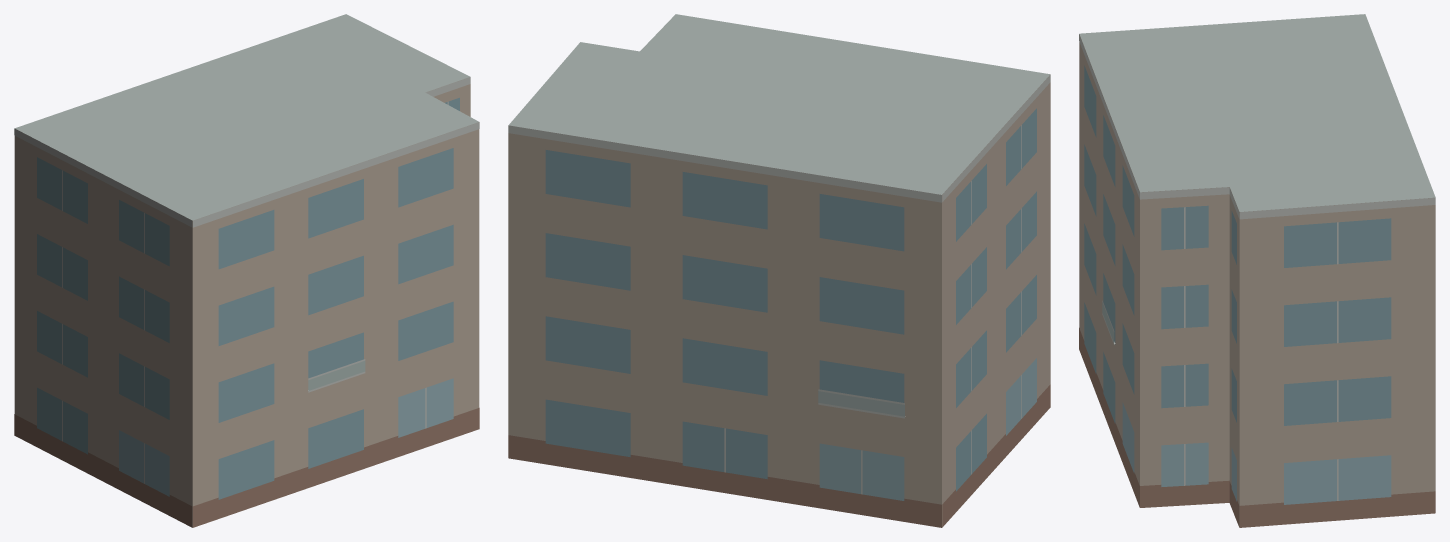
File: survey-upis-32720361.glb
The picture shows the model from 3 angles, left to right: view 1: azimuth 30°, elevation 25°; view 2: azimuth 150°, elevation 25°; view 3: azimuth 270°, elevation 25°; orthographic projection. The views are drawn at different scales.
Visible parts, largest first — view 1: survey-upis-32720361.tmp; view 2: survey-upis-32720361.tmp; view 3: survey-upis-32720361.tmp.
Part boxes in pixels (x1,y1,x2,y2): survey-upis-32720361.tmp: (14, 14, 479, 527); survey-upis-32720361.tmp: (508, 14, 1050, 527); survey-upis-32720361.tmp: (1079, 14, 1435, 527).
Bounding box in the file's own units: 14.14 × 10.5 × 10.75.
